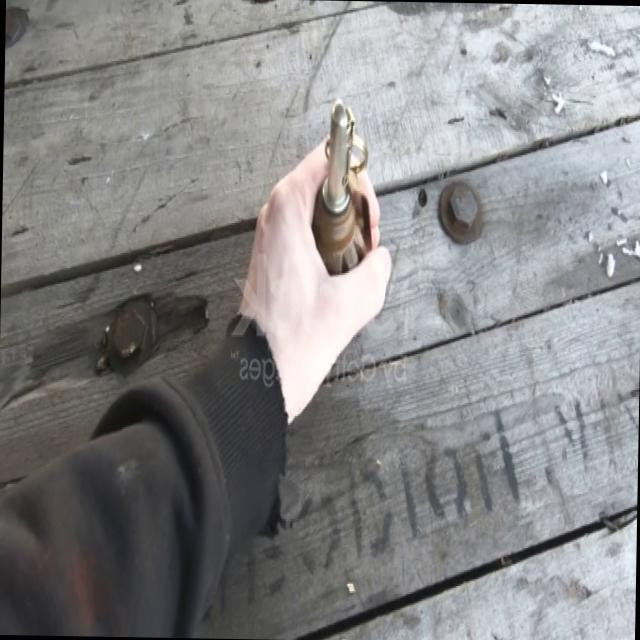grenade: (308, 87, 371, 275)
